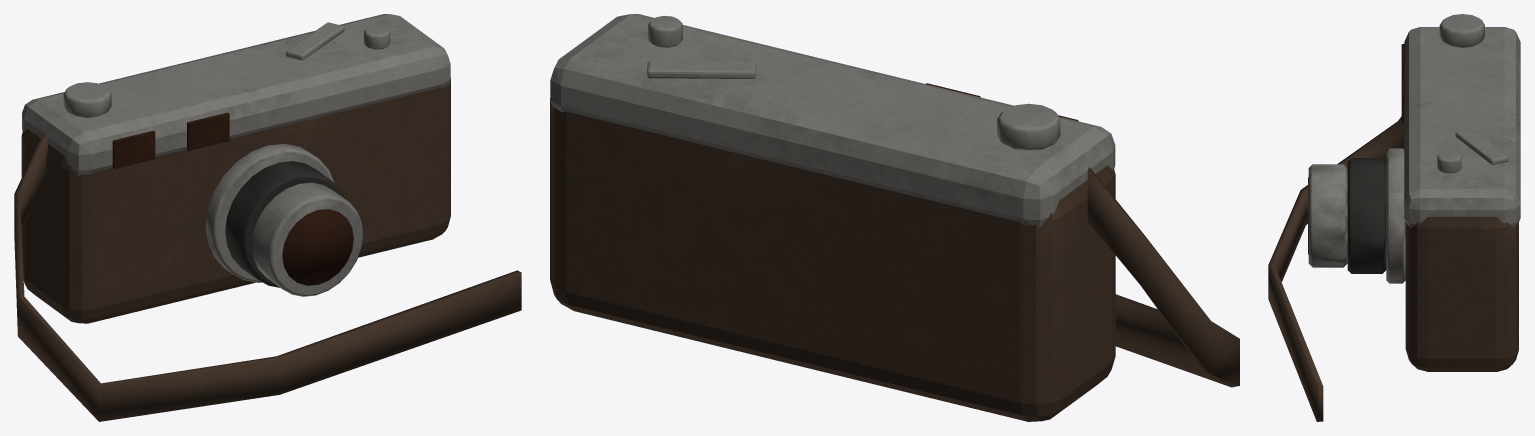
File: prop_film_camera_01.gltf
3 renders of one model, left to right at view 1: azimuth 30°, elevation 25°; view 2: azimuth 150°, elevation 25°; view 3: azimuth 270°, elevation 25°, orthographic. The views are drawn at different scales.
Parts seen in each view (by area): view 1: prop_film_camera_01_item_atlas_01; view 2: prop_film_camera_01_item_atlas_01; view 3: prop_film_camera_01_item_atlas_01.
Boxes of the visible parts, x1,y1,x2,y2 form: prop_film_camera_01_item_atlas_01: (14, 14, 521, 421); prop_film_camera_01_item_atlas_01: (550, 14, 1239, 421); prop_film_camera_01_item_atlas_01: (1268, 14, 1520, 421).
Bounding box in the file's own units: 0.155 × 0.0804 × 0.078.
Materials: 1 (1 with a texture image).
